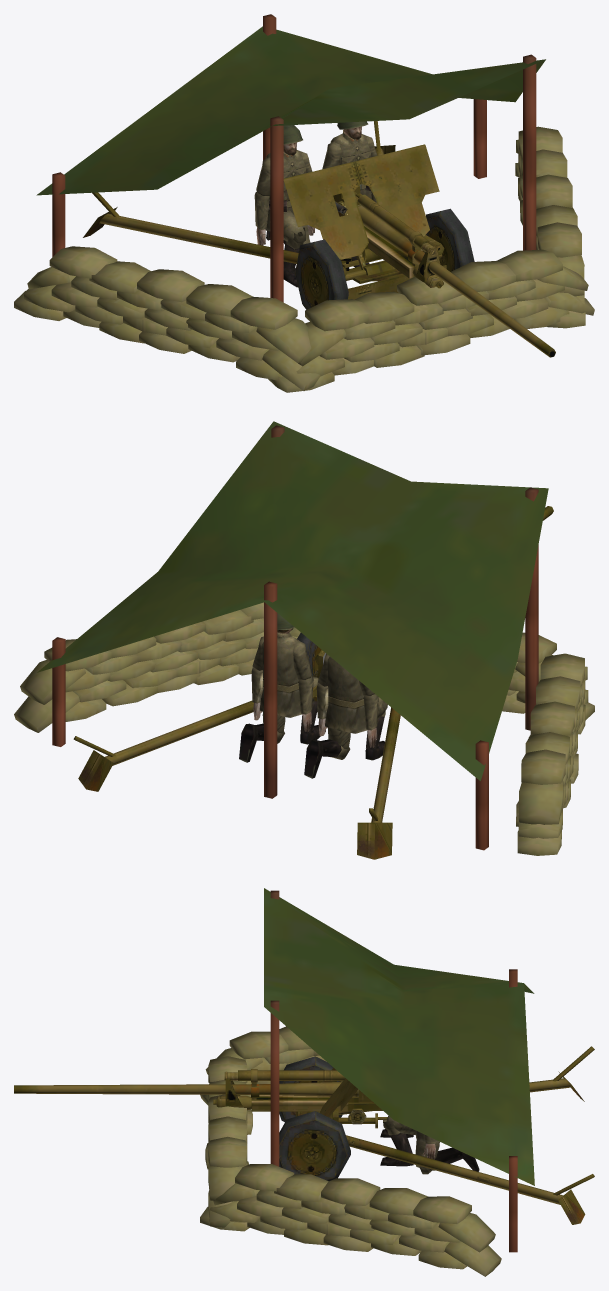
Rendered from RUSZiS2_Stationary.dae.
The picture shows the model from 3 angles, top to bottom: view 1: azimuth 30°, elevation 25°; view 2: azimuth 150°, elevation 25°; view 3: azimuth 270°, elevation 25°; orthographic projection. The views are drawn at different scales.
Visible parts, largest first — view 1: base, carriage, sleeve, barrel, torso2, torso1, rloarm1; view 2: base, carriage, torso1, torso2, rloarm2, rloarm1; view 3: base, carriage, sleeve, barrel.
Boxes of the visible parts, bbox=[...] form: base: bbox=[14, 14, 594, 392]; carriage: bbox=[83, 121, 474, 309]; sleeve: bbox=[356, 194, 443, 288]; barrel: bbox=[333, 186, 555, 357]; torso2: bbox=[330, 130, 371, 198]; torso1: bbox=[265, 150, 307, 231]; rloarm1: bbox=[254, 192, 269, 245]; base: bbox=[14, 421, 594, 855]; carriage: bbox=[73, 632, 400, 859]; torso1: bbox=[322, 656, 367, 733]; torso2: bbox=[257, 632, 302, 717]; rloarm2: bbox=[298, 676, 313, 731]; rloarm1: bbox=[364, 694, 378, 747]; base: bbox=[200, 888, 534, 1276]; carriage: bbox=[279, 1046, 594, 1224]; sleeve: bbox=[213, 1069, 387, 1128]; barrel: bbox=[14, 1082, 373, 1102].
Bounding box in the file's own units: 46.2 × 48.28 × 19.82.
